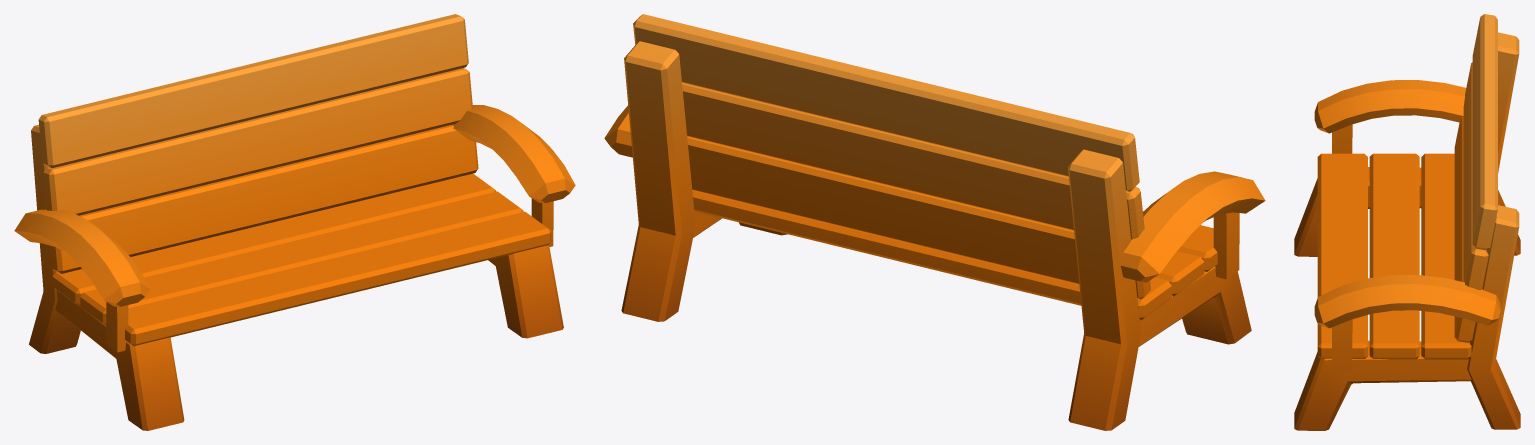
File: Bench_01.fbx
The picture shows the model from 3 angles, left to right: view 1: azimuth 30°, elevation 25°; view 2: azimuth 150°, elevation 25°; view 3: azimuth 270°, elevation 25°; orthographic projection. The views are drawn at different scales.
Visible parts, largest first — view 1: Bench_01; view 2: Bench_01; view 3: Bench_01.
Part boxes in pixels (x1,y1,x2,y2): Bench_01: [14, 14, 575, 430]; Bench_01: [604, 14, 1265, 430]; Bench_01: [1294, 14, 1520, 430].
Size of the model in its own units: 180 by 87.49 by 79.57.
